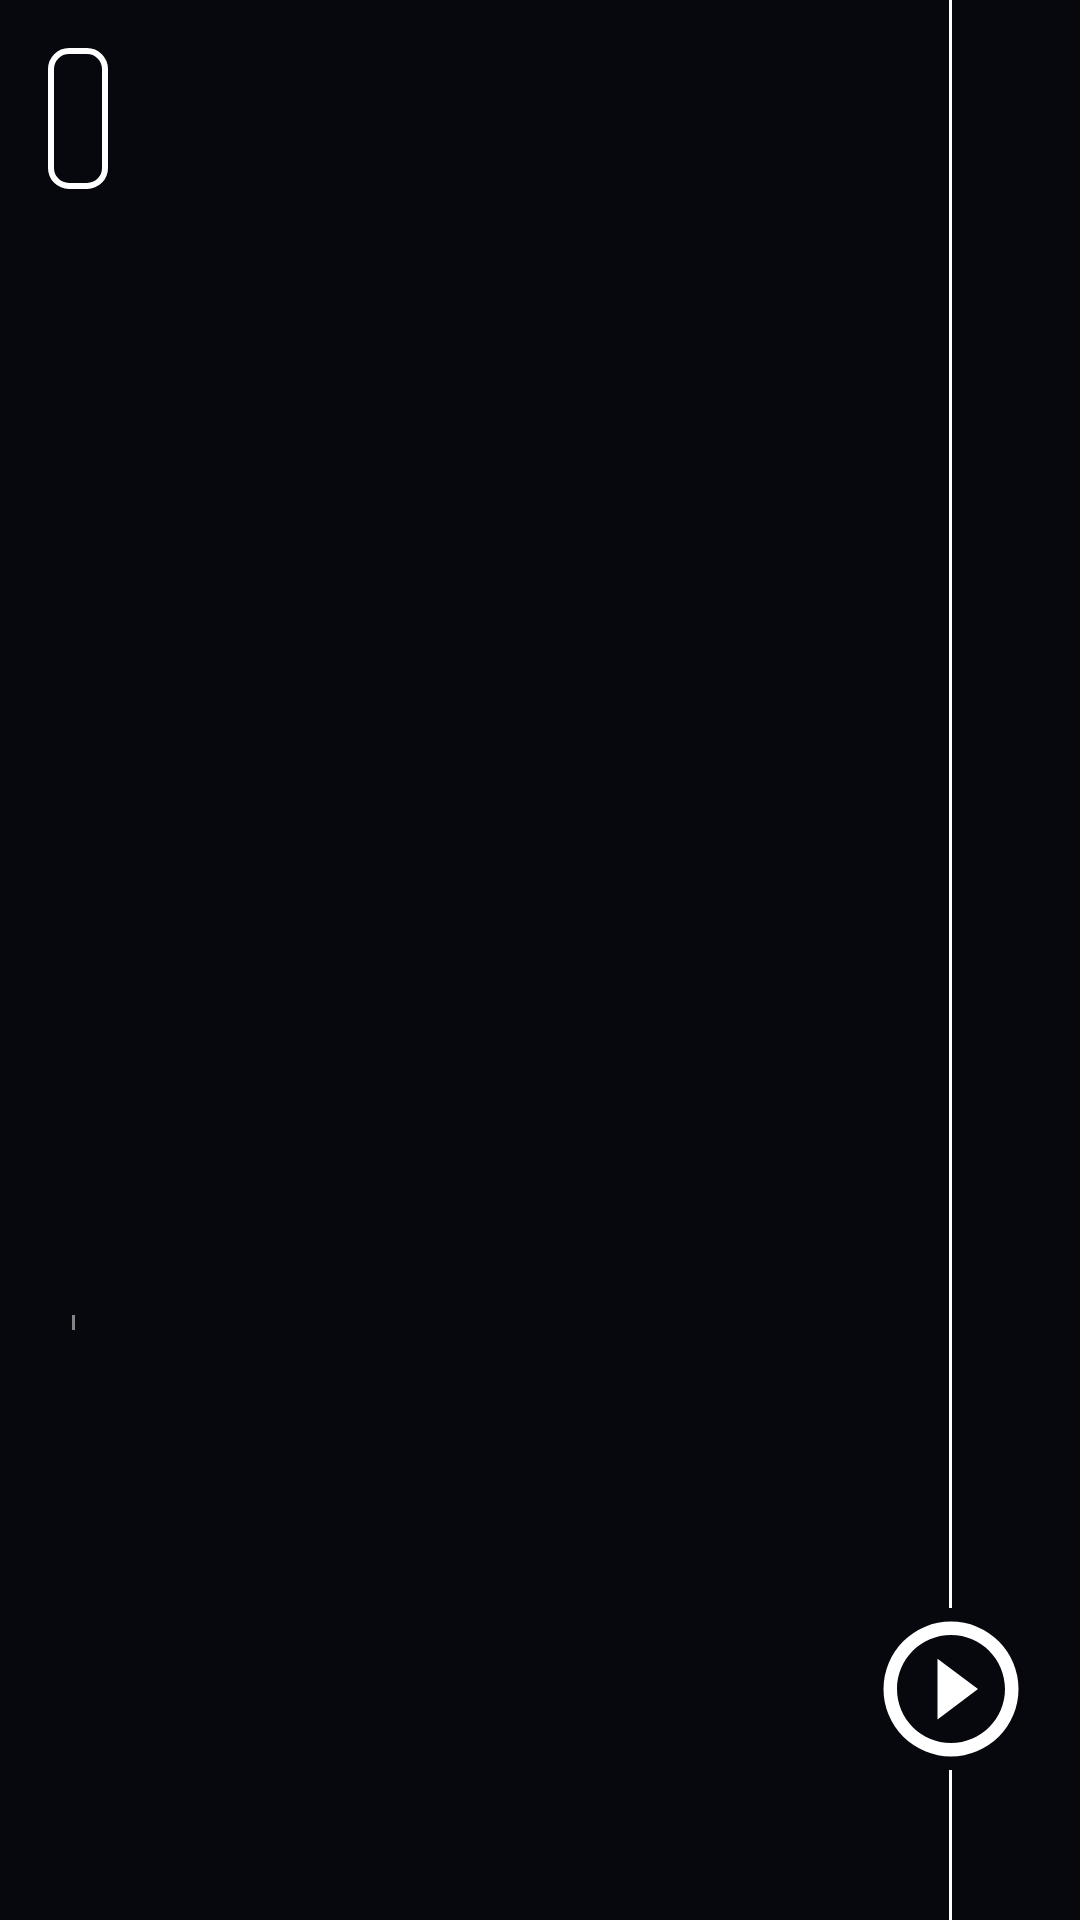

Screen size 1080 x 1920. Icon name, then its box in pixels as (x1, y1, x2, y2):
play: (883, 1621, 1019, 1757)
